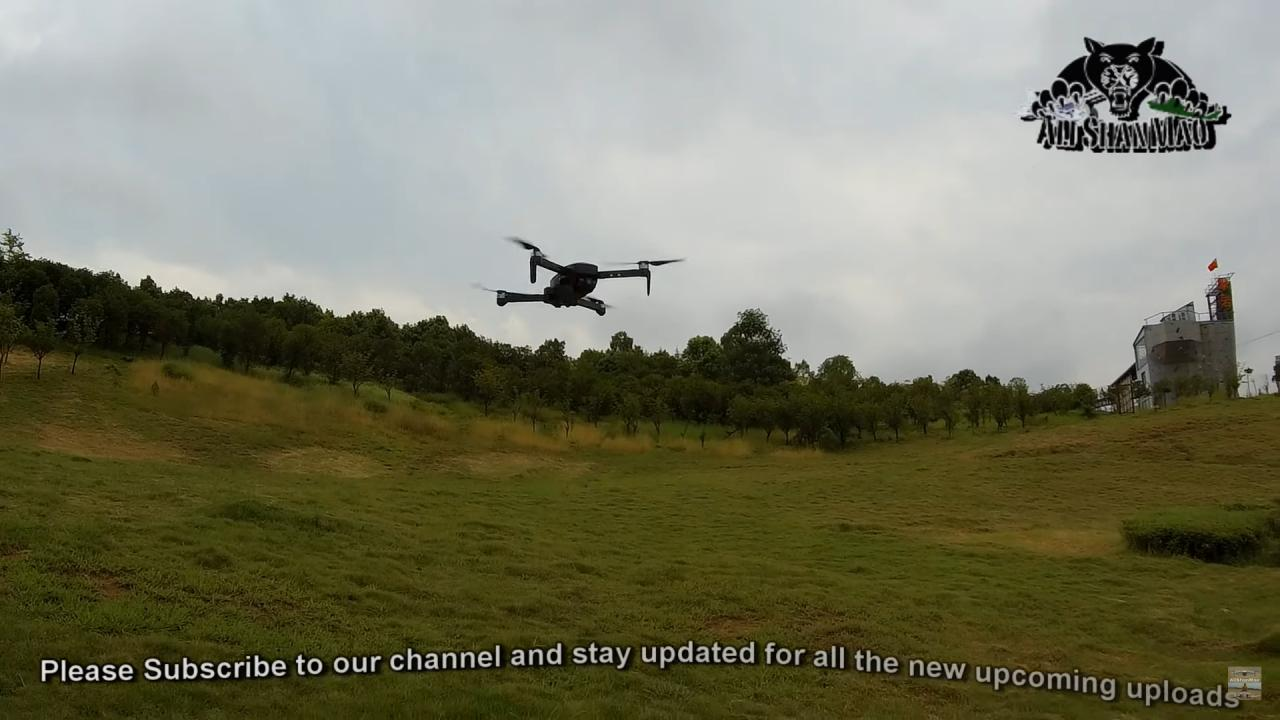Drone: (451, 220, 695, 327)
